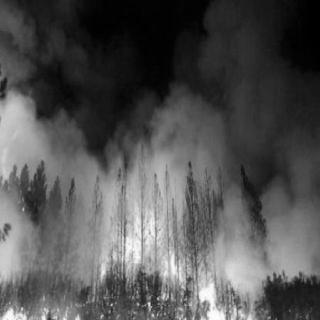Fire: (91, 215, 232, 318)
Smoke: (0, 6, 304, 222)
